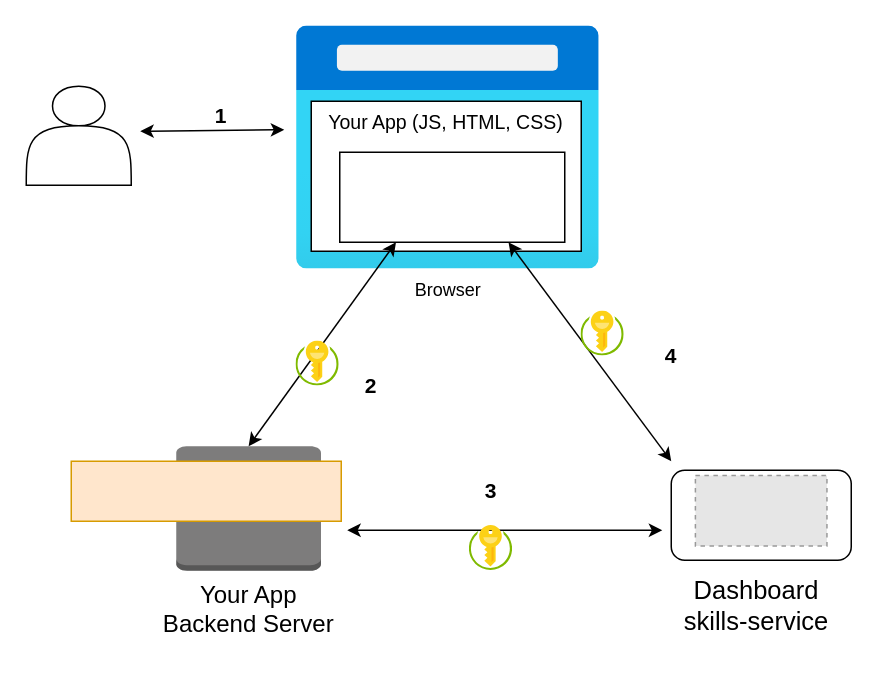
Some shapes in this 878 by 693 pixel diagram are drawn without their labels. Grey dashed boxes stand in for pictures. Each missing label, with the centre of its shape:
"Authentication Endpoint /users/{user}/token" goes at [205,490].
"SkilTree Ranking And Visualization JS Lib" goes at [451,196].
